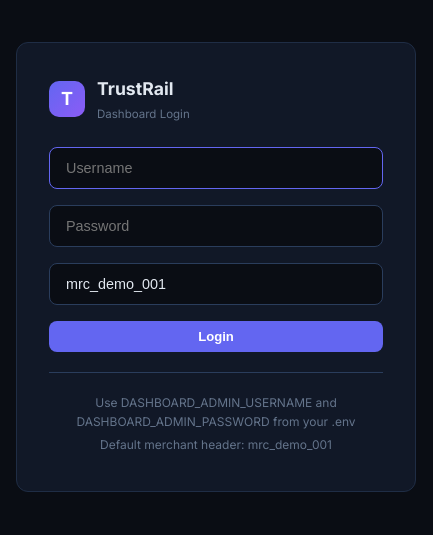
it: App – login screen › shows a network-error message when the server is unreachable
Type "admin" into the field with placeholder "Username" at (216, 168), box [49,147,383,189]
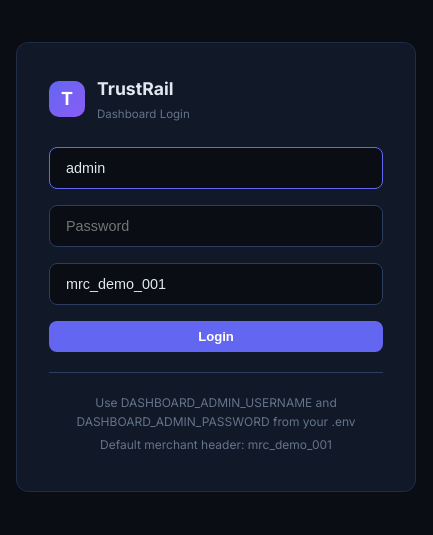
Type "wrong" into the password field with placeholder "Password" at (216, 226), box [49,205,383,247]
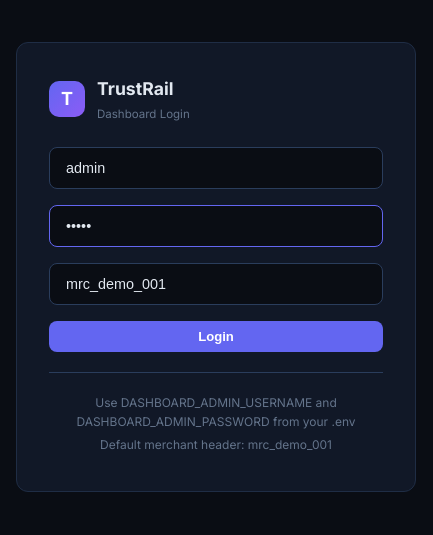
Click the button "Login" at (216, 336), box [49,321,383,352]
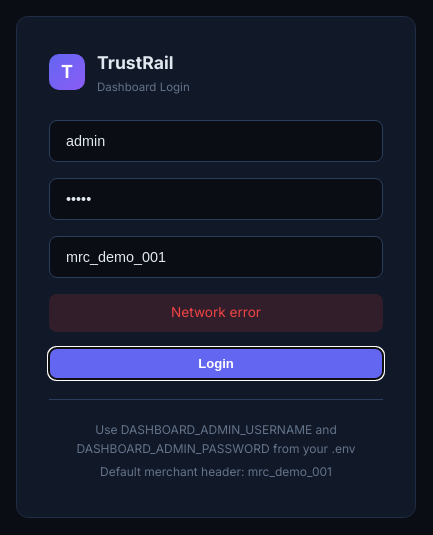
Expected: the text "Network error" is shown, [49,294,383,332]
